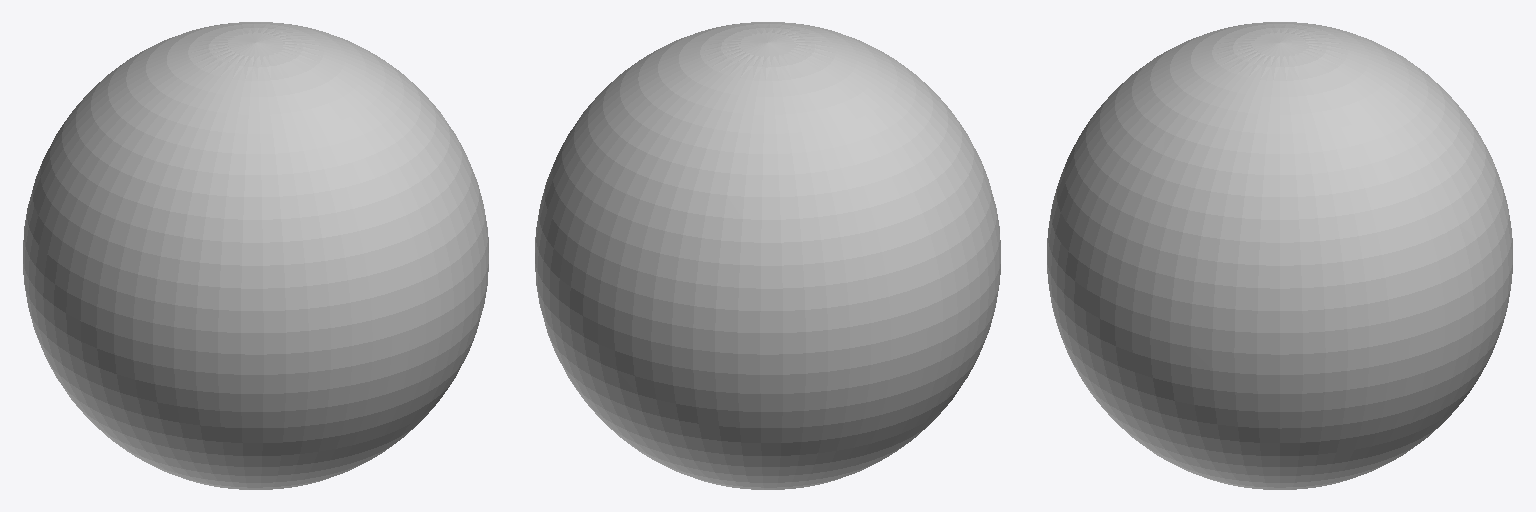
File: Ball.obj
The picture shows the model from 3 angles: view 1: azimuth 30°, elevation 25°; view 2: azimuth 150°, elevation 25°; view 3: azimuth 270°, elevation 25°; orthographic projection.
Visible parts, largest first — view 1: Ball_Sphere; view 2: Ball_Sphere; view 3: Ball_Sphere.
Boxes of the visible parts, x1,y1,x2,y2 form: Ball_Sphere: [23, 22, 488, 489]; Ball_Sphere: [535, 22, 1000, 489]; Ball_Sphere: [1047, 22, 1512, 489].
Size of the model in its own units: 0.2513 by 0.2535 by 0.2513.